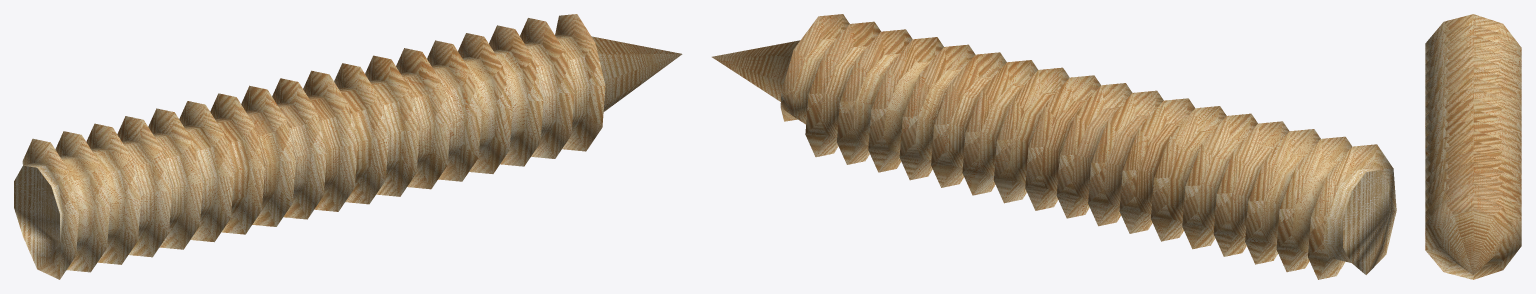
File: original-170.obj
3 renders of one model, left to right at view 1: azimuth 30°, elevation 25°; view 2: azimuth 150°, elevation 25°; view 3: azimuth 270°, elevation 25°, orthographic. The views are drawn at different scales.
Visible parts, largest first — view 1: Group107/mesh180/mesh180-geometry#mesh180-geometry; view 2: Group107/mesh180/mesh180-geometry#mesh180-geometry; view 3: Group107/mesh180/mesh180-geometry#mesh180-geometry.
Part boxes in pixels (bbox=[...]): Group107/mesh180/mesh180-geometry#mesh180-geometry: bbox=[14, 14, 682, 279]; Group107/mesh180/mesh180-geometry#mesh180-geometry: bbox=[712, 14, 1396, 279]; Group107/mesh180/mesh180-geometry#mesh180-geometry: bbox=[1425, 14, 1521, 279].
Bounding box in the file's own units: 0.039 × 0.00759 × 0.00722.
